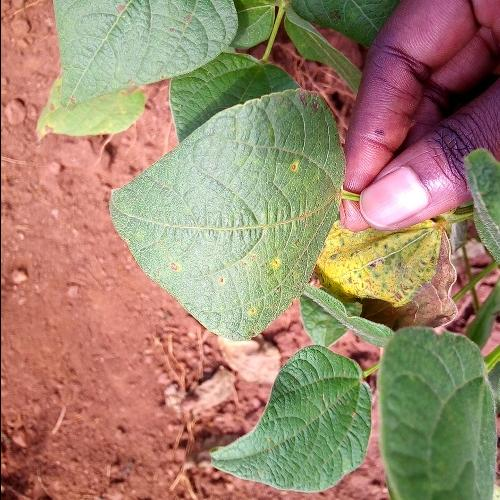hawar: (156, 230, 288, 325), (276, 147, 311, 182)
